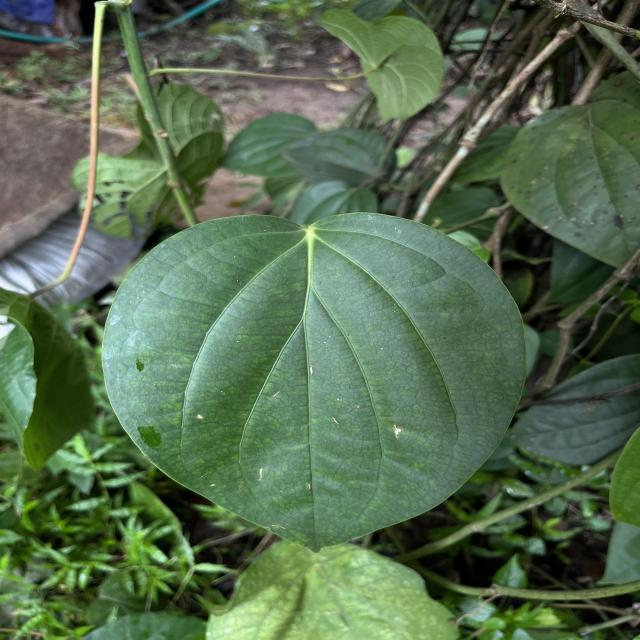Piper nigrum: (99, 210, 530, 558)
